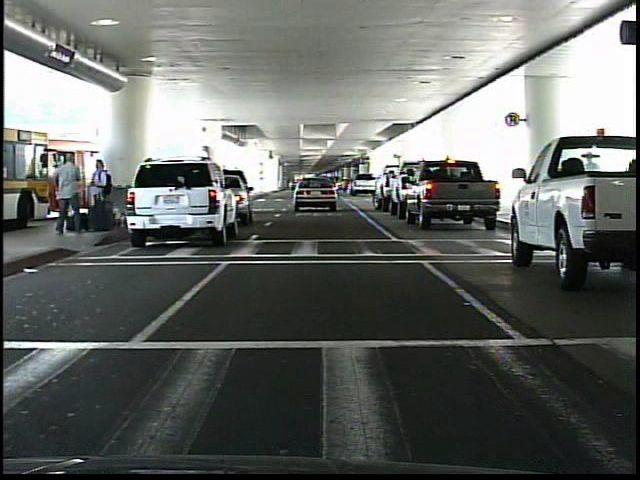person: (50, 152, 84, 234), (87, 155, 113, 235)
